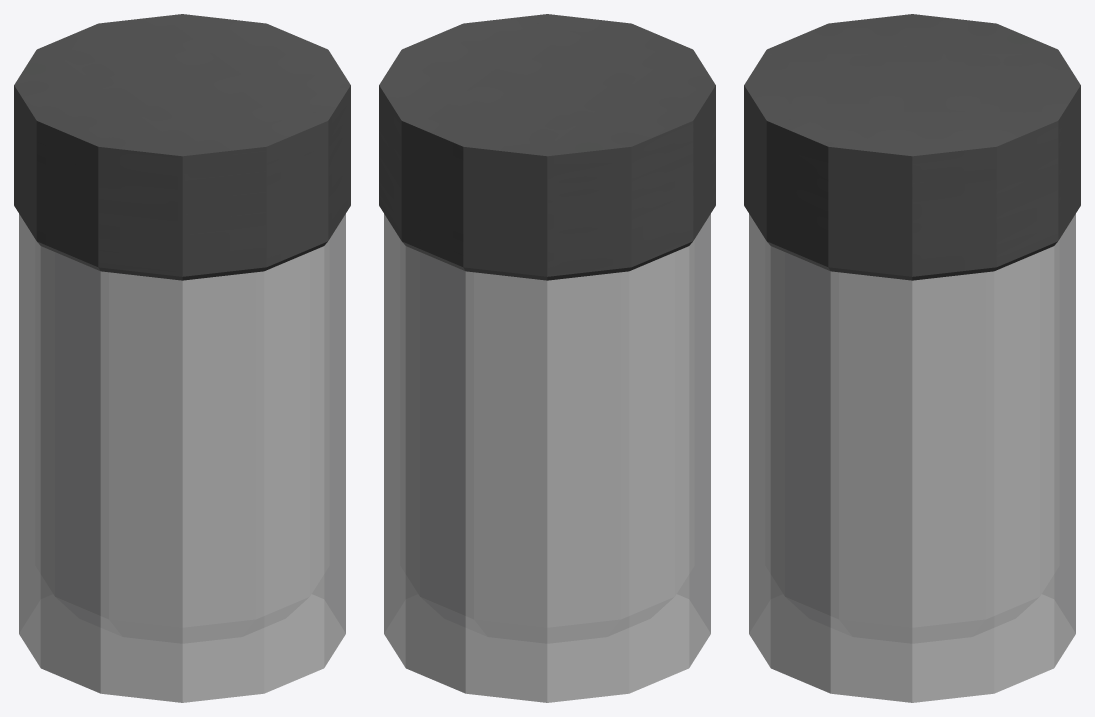
The model's file is SM_Tiaoliao_04.fbx.
3 renders of one model, left to right at view 1: azimuth 30°, elevation 25°; view 2: azimuth 150°, elevation 25°; view 3: azimuth 270°, elevation 25°, orthographic.
Visible parts, largest first — view 1: SM_Tiaoliao_04, SM_Gaizi; view 2: SM_Tiaoliao_04, SM_Gaizi; view 3: SM_Tiaoliao_04, SM_Gaizi.
Part boxes in pixels (<box>): SM_Tiaoliao_04: <box>19,214,345,702</box>; SM_Gaizi: <box>14,14,350,280</box>; SM_Tiaoliao_04: <box>384,214,710,702</box>; SM_Gaizi: <box>379,14,715,280</box>; SM_Tiaoliao_04: <box>749,214,1075,702</box>; SM_Gaizi: <box>744,14,1080,280</box>.
Size of the model in its own units: 7.2 by 12.95 by 7.2.
